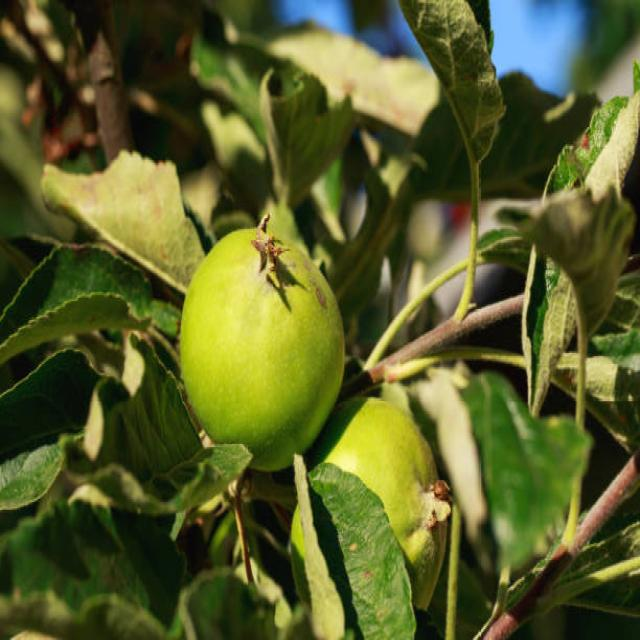Unripe: (182, 229, 346, 471)
